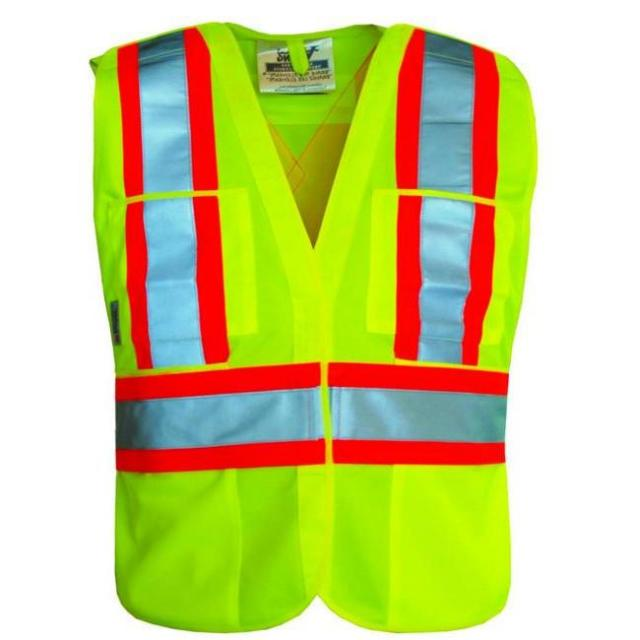Reflective-Jacket: (43, 0, 573, 640)
